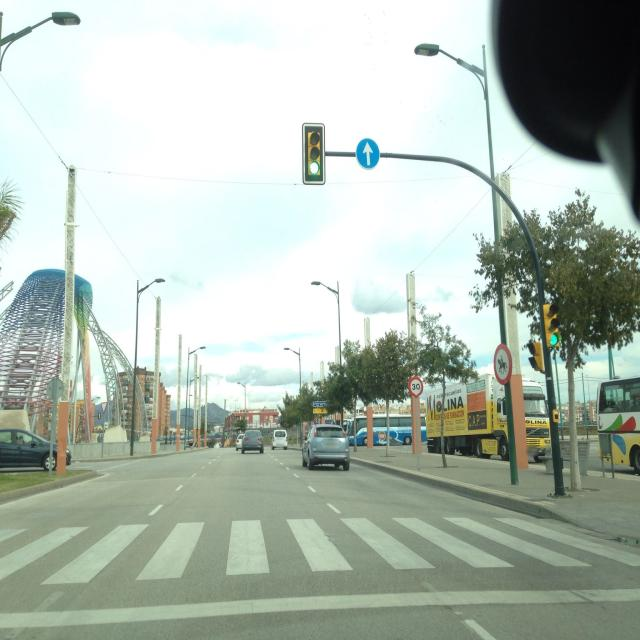car: (0, 427, 72, 473), (302, 424, 351, 471), (241, 430, 265, 454), (271, 429, 288, 450), (235, 435, 244, 451)
